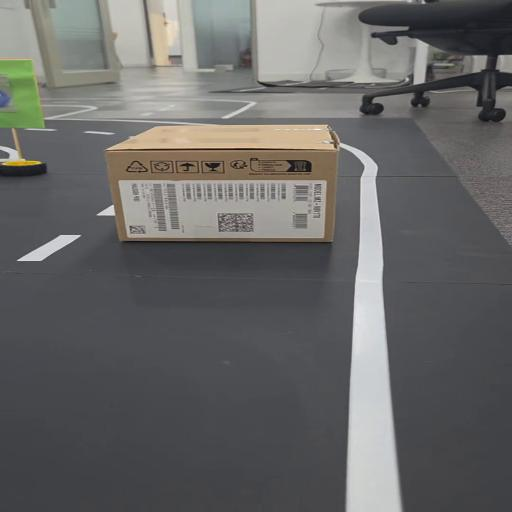Box: (95, 123, 363, 248)
